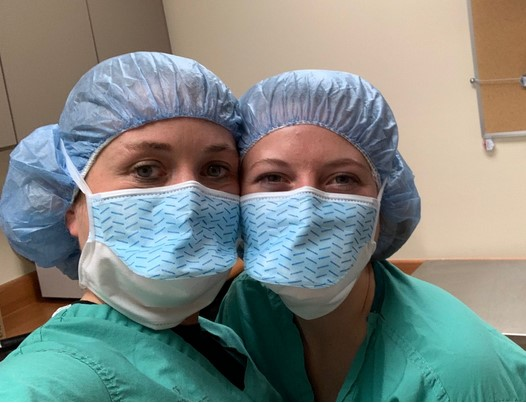face_with_mask: (53, 51, 242, 334), (244, 69, 422, 328)
